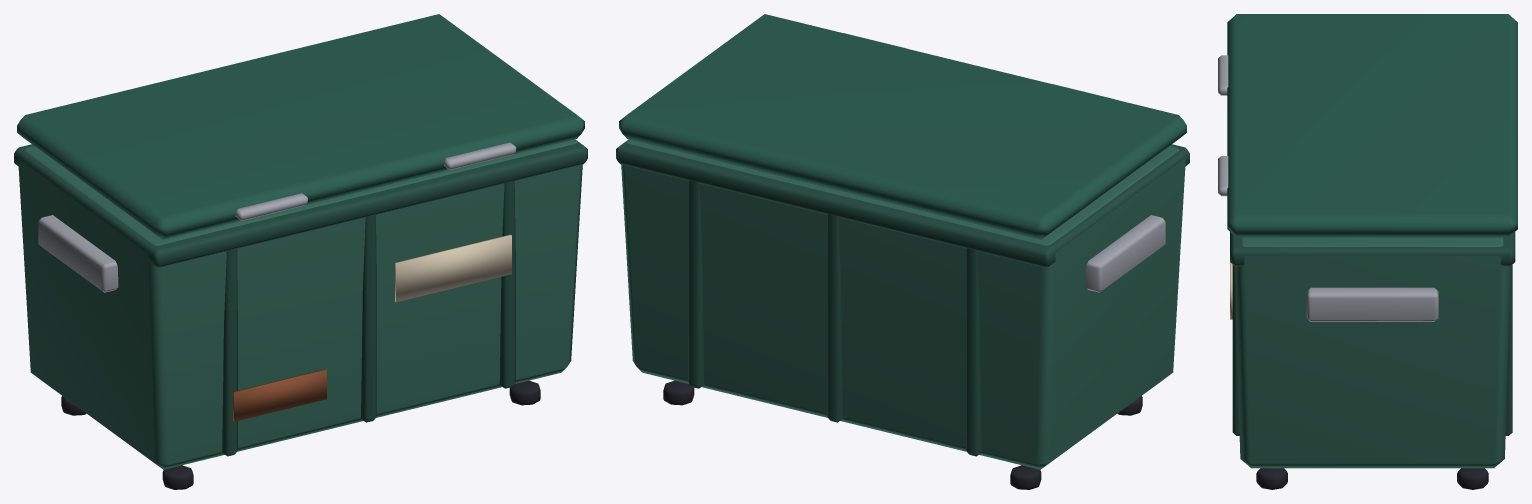
The model's file is dumpster.glb.
The picture shows the model from 3 angles, left to right: view 1: azimuth 30°, elevation 25°; view 2: azimuth 150°, elevation 25°; view 3: azimuth 270°, elevation 25°; orthographic projection.
Visible parts, largest first — view 1: dumpster, lid; view 2: dumpster, lid; view 3: dumpster, lid.
Boxes of the visible parts, x1,y1,x2,y2 form: dumpster: (14, 139, 587, 489); lid: (17, 14, 584, 239); dumpster: (616, 139, 1189, 489); lid: (619, 14, 1186, 239); dumpster: (1230, 232, 1515, 489); lid: (1218, 14, 1517, 237).
Size of the model in its own units: 2 by 1.2 by 1.14.
